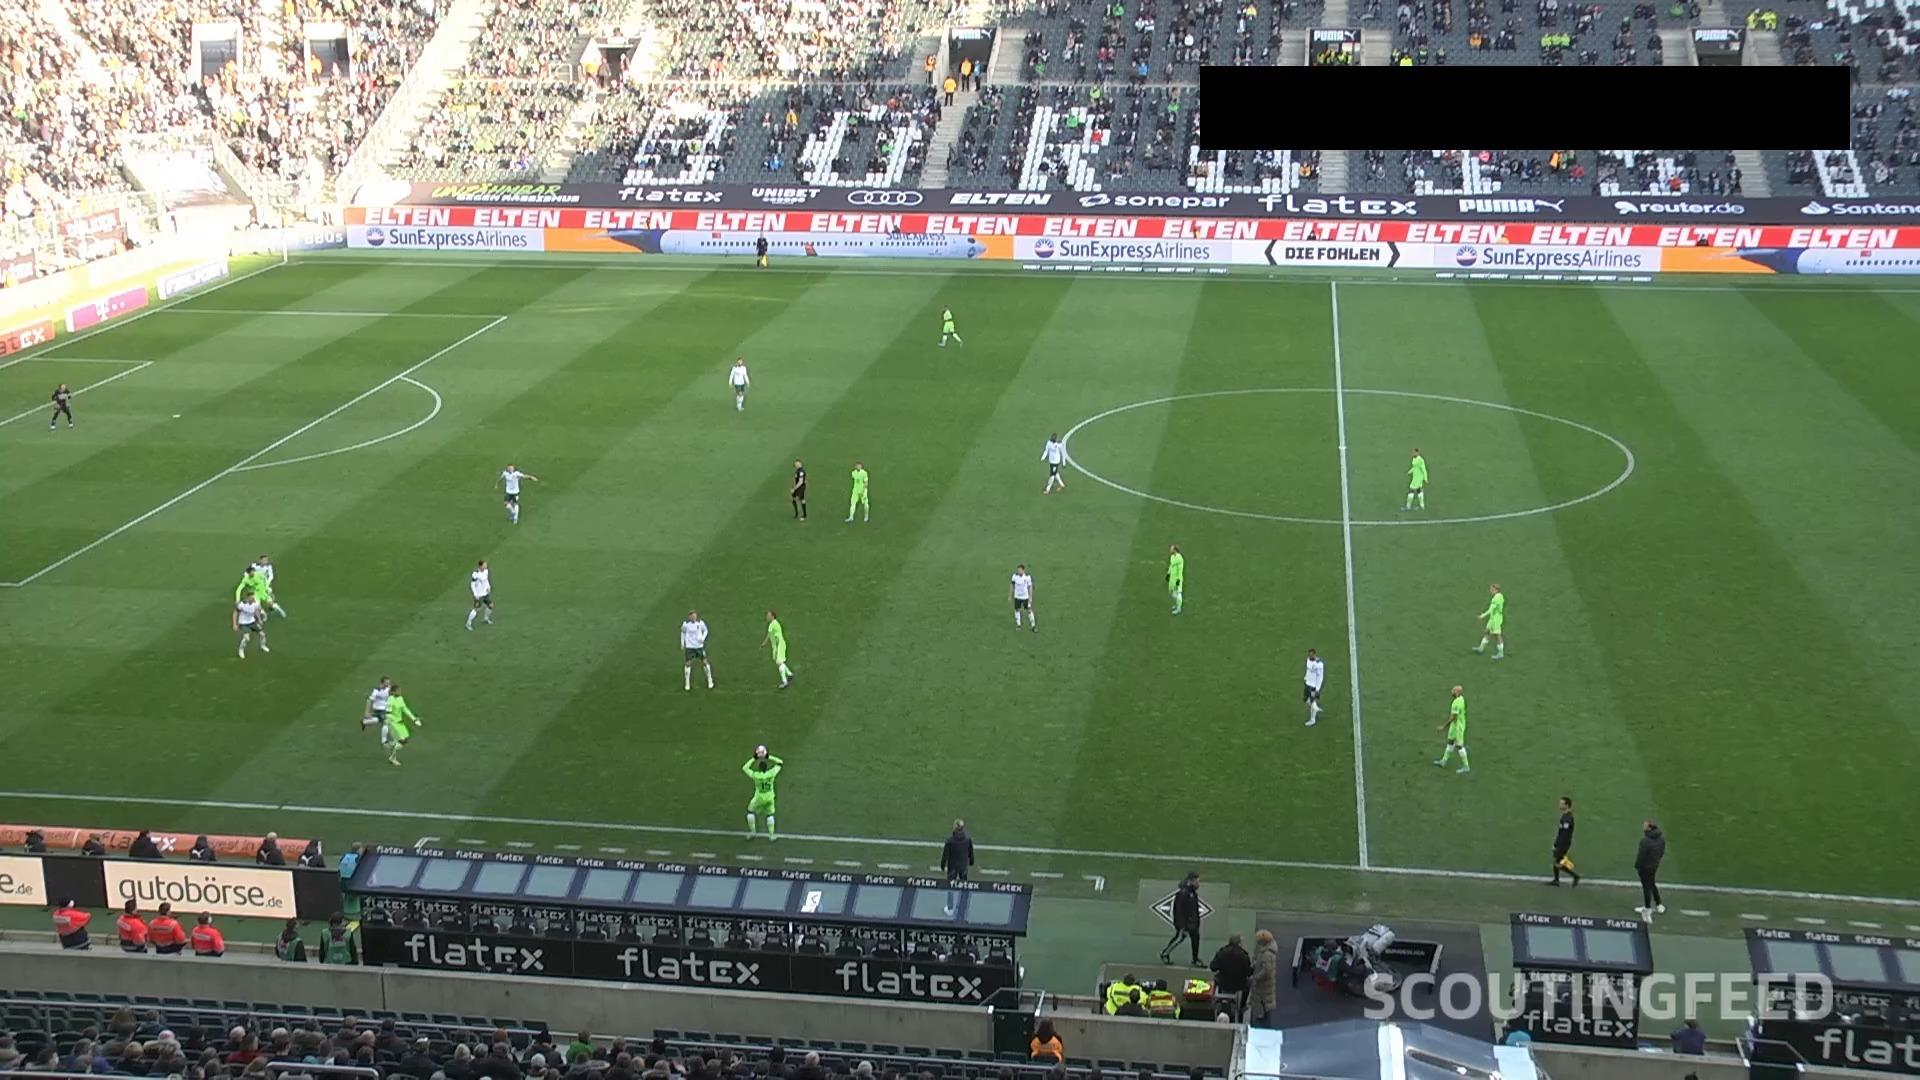ball: (752, 743, 772, 759)
coach: (938, 818, 974, 914), (1633, 819, 1666, 913)
player: (740, 743, 783, 842), (380, 682, 422, 766), (1432, 684, 1470, 773), (678, 609, 714, 691), (760, 608, 793, 689), (1471, 582, 1505, 659), (231, 563, 271, 628), (495, 463, 537, 524), (233, 590, 269, 658), (360, 675, 394, 745), (250, 554, 285, 619), (464, 559, 494, 629), (1009, 563, 1037, 632), (1039, 431, 1068, 494), (1301, 647, 1324, 726), (1400, 447, 1427, 510), (844, 461, 870, 522), (1164, 543, 1184, 614), (48, 382, 74, 429), (728, 357, 750, 411), (937, 306, 962, 347)
referee: (1158, 870, 1208, 967), (1548, 795, 1579, 886), (789, 458, 807, 521), (754, 232, 770, 273)
